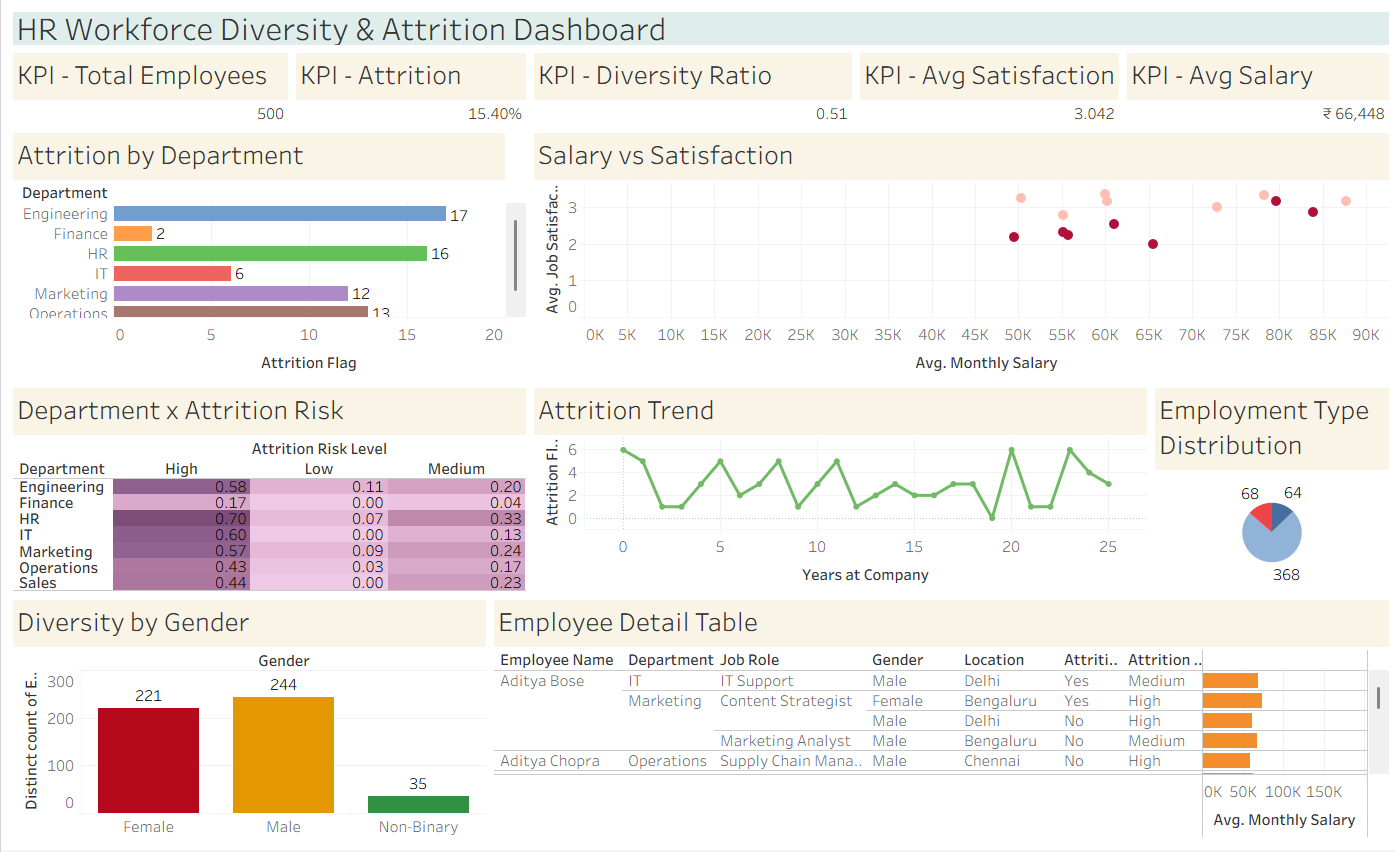

Layout of this report page (visuals, bound fields, positions):
{"tool":"tableau","page":{"name":"HR Workforce Diversity & Attrition Dashboard","canvas":[1400,850],"ordinal":0},"visuals":[{"type":"title","box":[8,8,1384,41]},{"type":"worksheet","title":"KPI - Total Employees","mark":"Automatic","box":[8,49,283,80]},{"type":"worksheet","title":"KPI - Attrition Rate","mark":"Automatic","box":[291,49,238,80]},{"type":"worksheet","title":"KPI - Diversity Ratio","mark":"Automatic","box":[529,49,326,80]},{"type":"worksheet","title":"KPI - Avg Satisfaction","mark":"Automatic","box":[855,49,267,80]},{"type":"worksheet","title":"KPI - Avg Salary","mark":"Automatic","box":[1122,49,270,80]},{"type":"worksheet","title":"Attrition by Department","mark":"Bar","rows":["Department"],"cols":["Attrition Flag"],"box":[8,129,521,254.7]},{"type":"worksheet","title":"Salary vs Satisfaction","mark":"Circle","rows":["Job Satisfaction Score"],"cols":["Monthly Salary"],"box":[529,129,863,255]},{"type":"worksheet","title":"Department x Attrition Risk","mark":"Square","rows":["Department"],"cols":["Attrition Risk Level"],"box":[8,383.7,521,212]},{"type":"worksheet","title":"Attrition Trend","mark":"Line","rows":["Attrition Flag"],"cols":["Years at Company"],"box":[529,384,621,211.7]},{"type":"worksheet","title":"Employment Type Distribution","mark":"Pie","box":[1150,384,242,211.7]},{"type":"worksheet","title":"Diversity by Gender","mark":"Bar","rows":["Employee ID"],"cols":["Gender"],"box":[8,595.7,481,246.3]},{"type":"worksheet","title":"Employee Detail Table","mark":"Automatic","rows":["Employee Name","Department","Job Role","Gender","Location","Attrition Status","Attrition Risk Level"],"cols":["Monthly Salary"],"box":[489,595.7,903,246.3]}]}

Visuals, with their boxes in screenshot pixels (x1, y1, x2, y2), scaled from the page's 1400x850 canvas onto the 1395x852 screenshot:
title: [8, 8, 1387, 49]
"KPI - Total Employees" worksheet: [8, 49, 290, 129]
"KPI - Attrition Rate" worksheet: [290, 49, 527, 129]
"KPI - Diversity Ratio" worksheet: [527, 49, 852, 129]
"KPI - Avg Satisfaction" worksheet: [852, 49, 1118, 129]
"KPI - Avg Salary" worksheet: [1118, 49, 1387, 129]
"Attrition by Department" worksheet (Bar marks): [8, 129, 527, 385]
"Salary vs Satisfaction" worksheet (Circle marks): [527, 129, 1387, 385]
"Department x Attrition Risk" worksheet (Square marks): [8, 385, 527, 597]
"Attrition Trend" worksheet (Line marks): [527, 385, 1146, 597]
"Employment Type Distribution" worksheet (Pie marks): [1146, 385, 1387, 597]
"Diversity by Gender" worksheet (Bar marks): [8, 597, 487, 844]
"Employee Detail Table" worksheet: [487, 597, 1387, 844]
